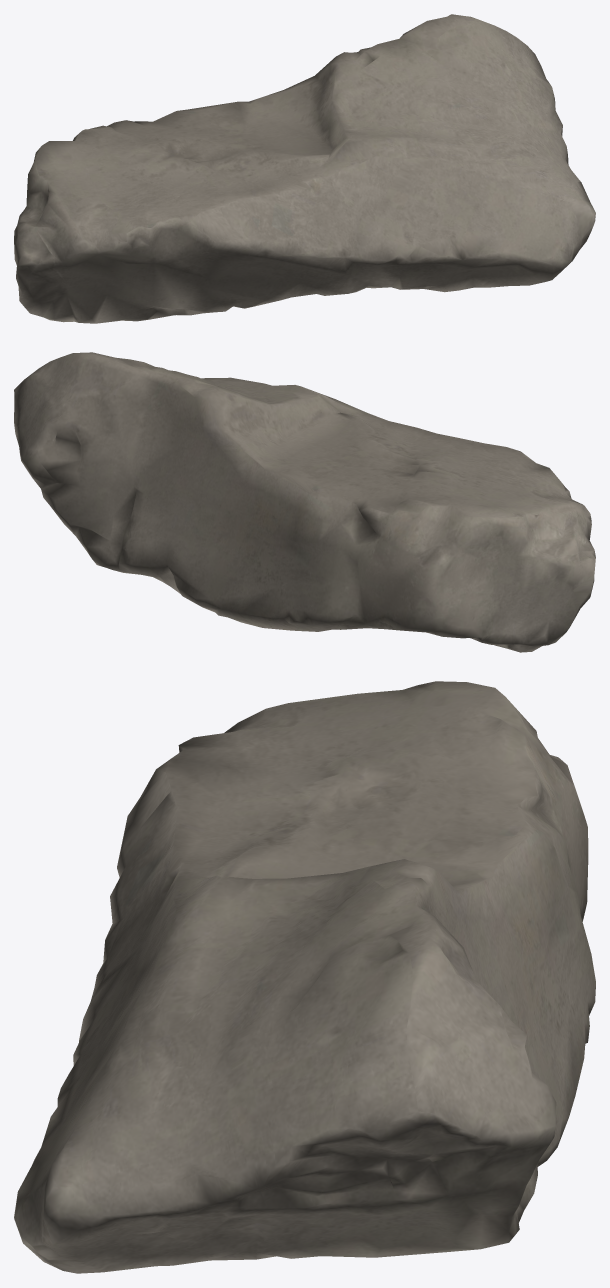
Rendered from moon-rock.glb.
The picture shows the model from 3 angles, top to bottom: view 1: azimuth 30°, elevation 25°; view 2: azimuth 150°, elevation 25°; view 3: azimuth 270°, elevation 25°; orthographic projection. The views are drawn at different scales.
Visible parts, largest first — view 1: moon_rock_01_LOD2; view 2: moon_rock_01_LOD2; view 3: moon_rock_01_LOD2.
Part boxes in pixels (left/top/right/bottom): moon_rock_01_LOD2: left=14, top=14, right=595, bottom=323; moon_rock_01_LOD2: left=14, top=352, right=595, bottom=652; moon_rock_01_LOD2: left=14, top=681, right=595, bottom=1273.
Size of the model in its own units: 0.2121 by 0.0752 by 0.1112.
1 material, 1 textured.
